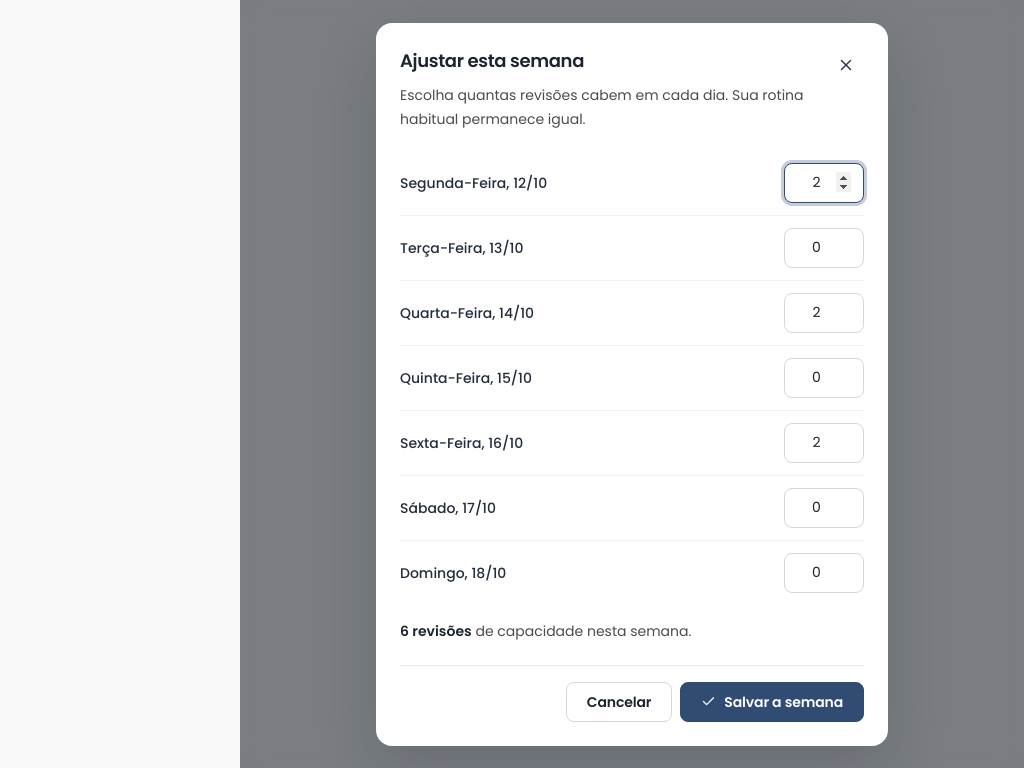
Test: WeeklyAvailabilityModal › tells the student the week was saved when only the refresh fails
Click the button "Salvar a semana": (772, 702) [680,682,864,722]
(page scrolled)
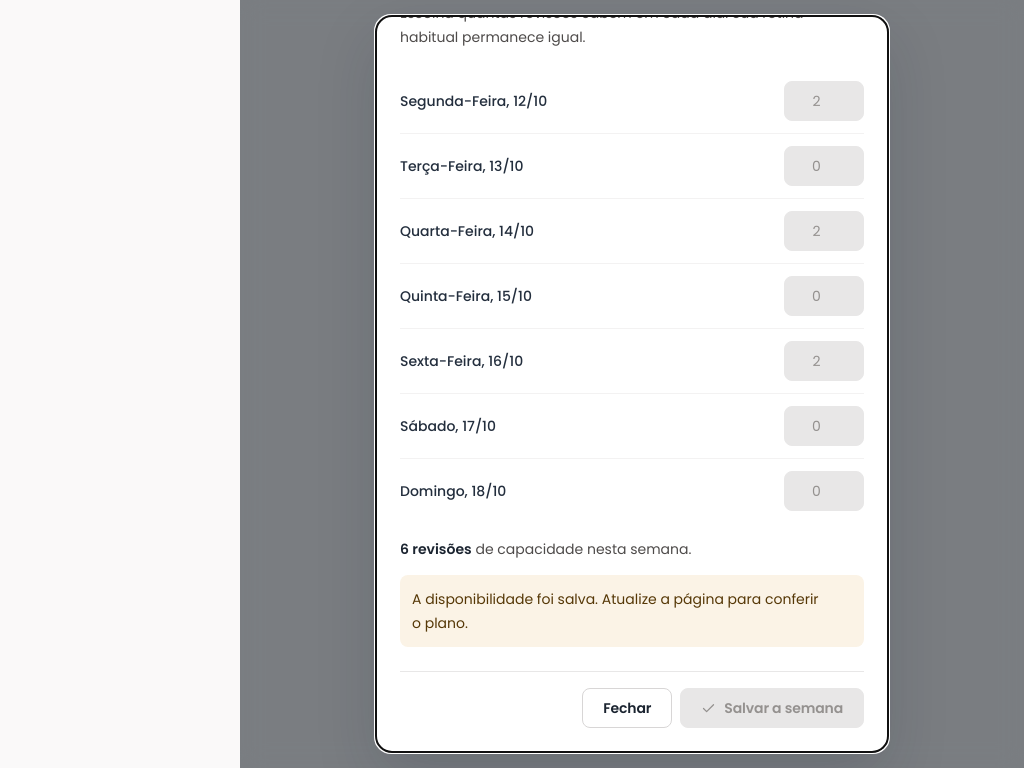
Result: the message shows "A disponibilidade foi salva" at [412,589,819,633]
Result: the button "Cancelar" is gone
Result: the button "Salvar a semana" is disabled at [680,688,864,728]
